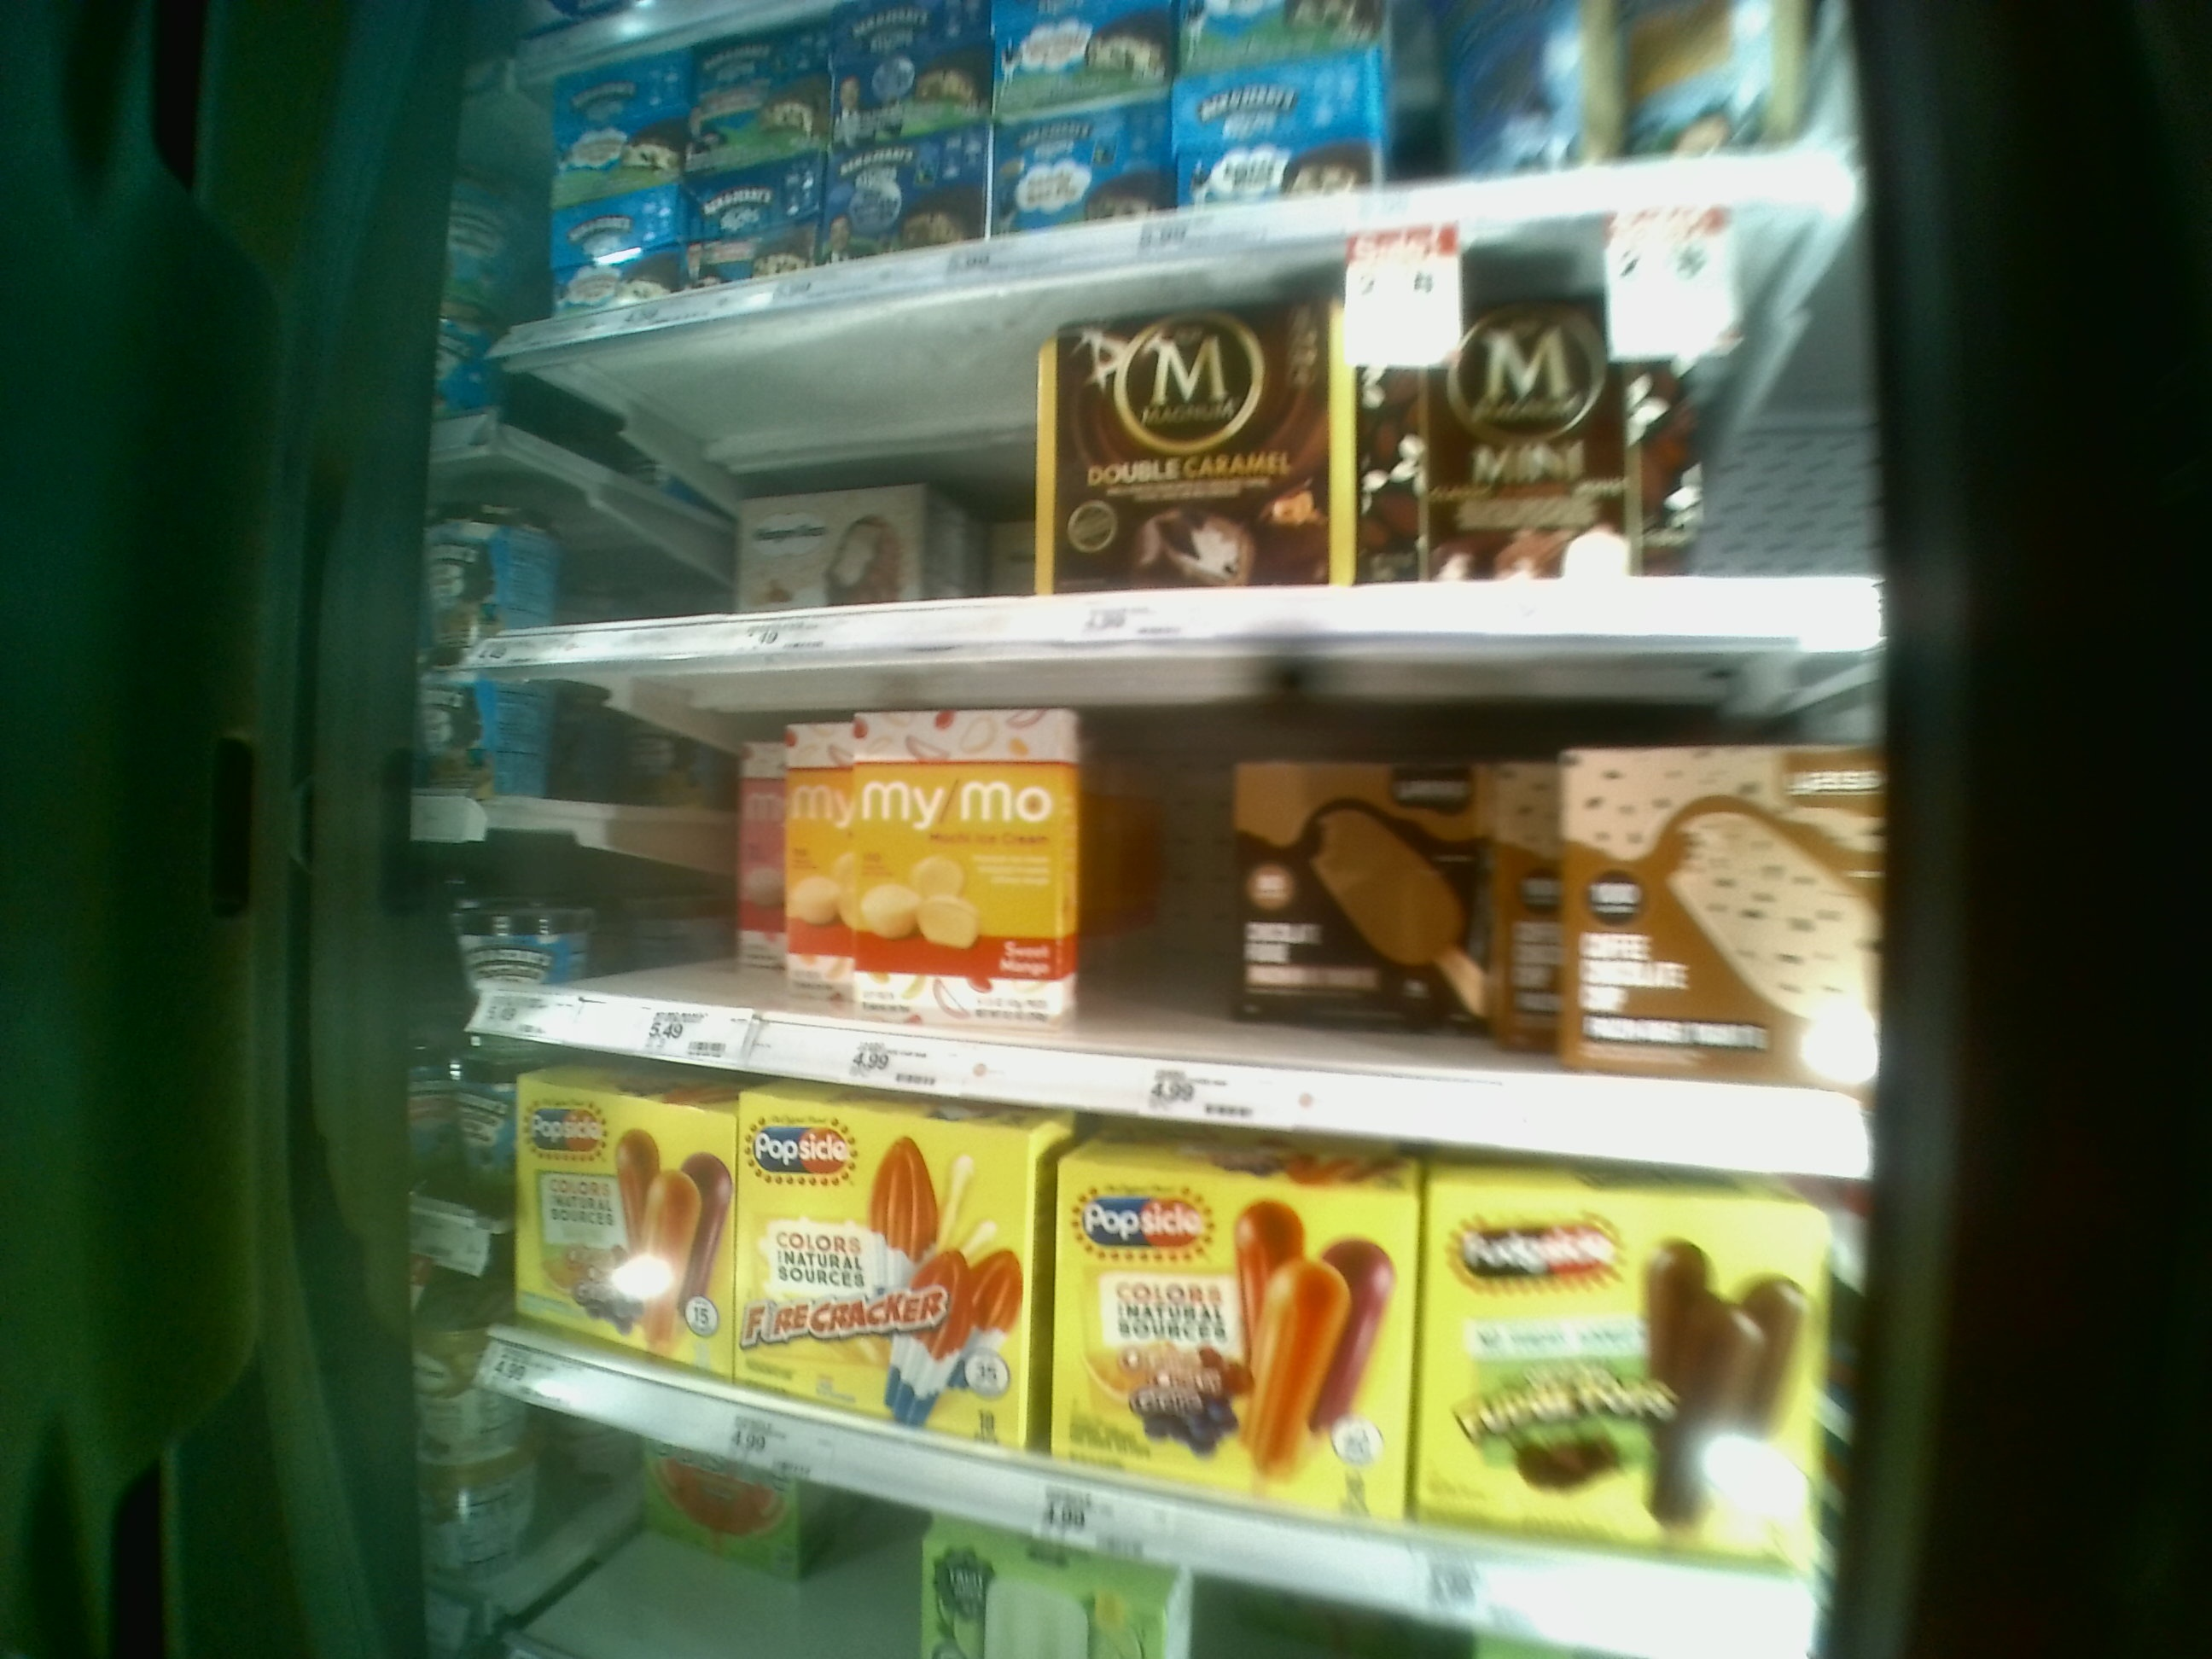shelf: (474, 641, 1885, 1183), (484, 176, 1874, 659)
